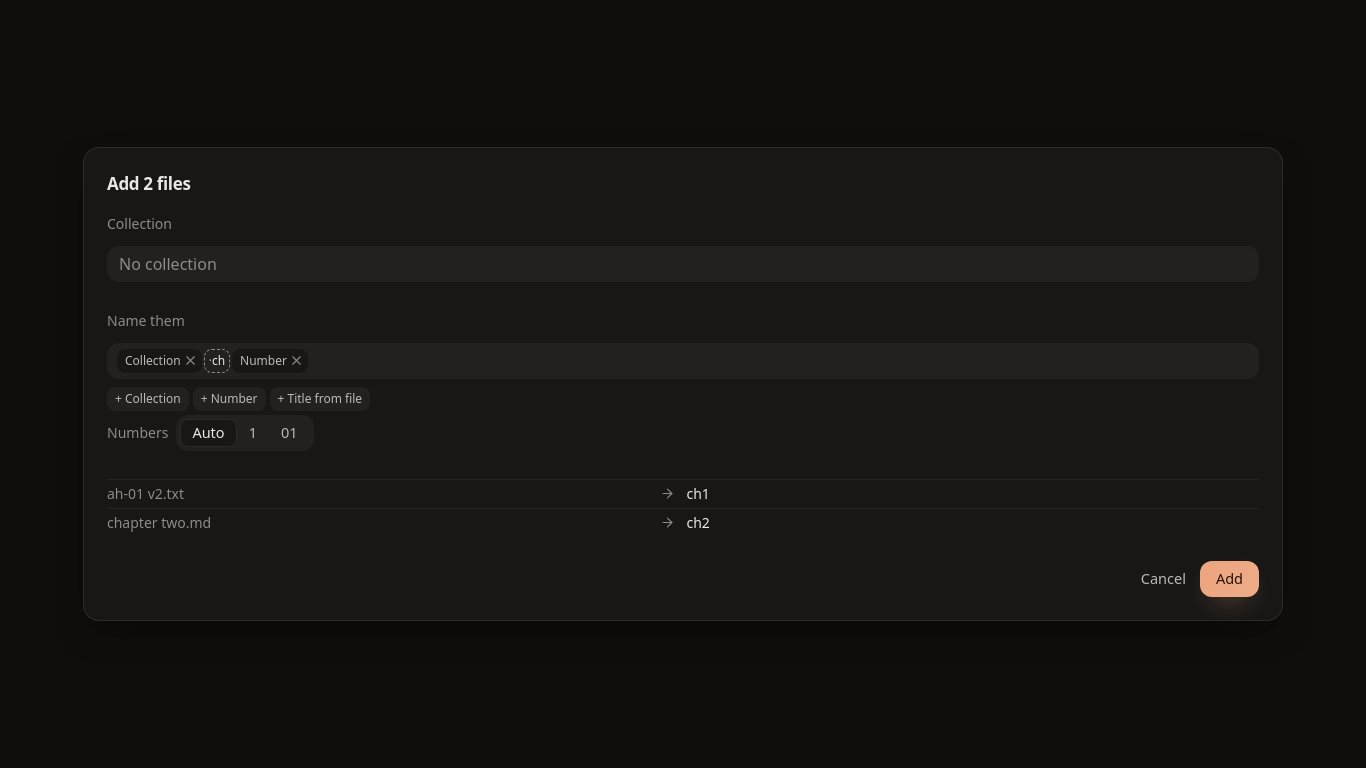
NamingModal › waits for the rule check before adding
The width and height of the screenshot is (1366, 768).
What coordinates should you click on to do the following:
click the button named "Remove Number"
I would click on:
 (296, 361)
Its box is [289,353,304,368].
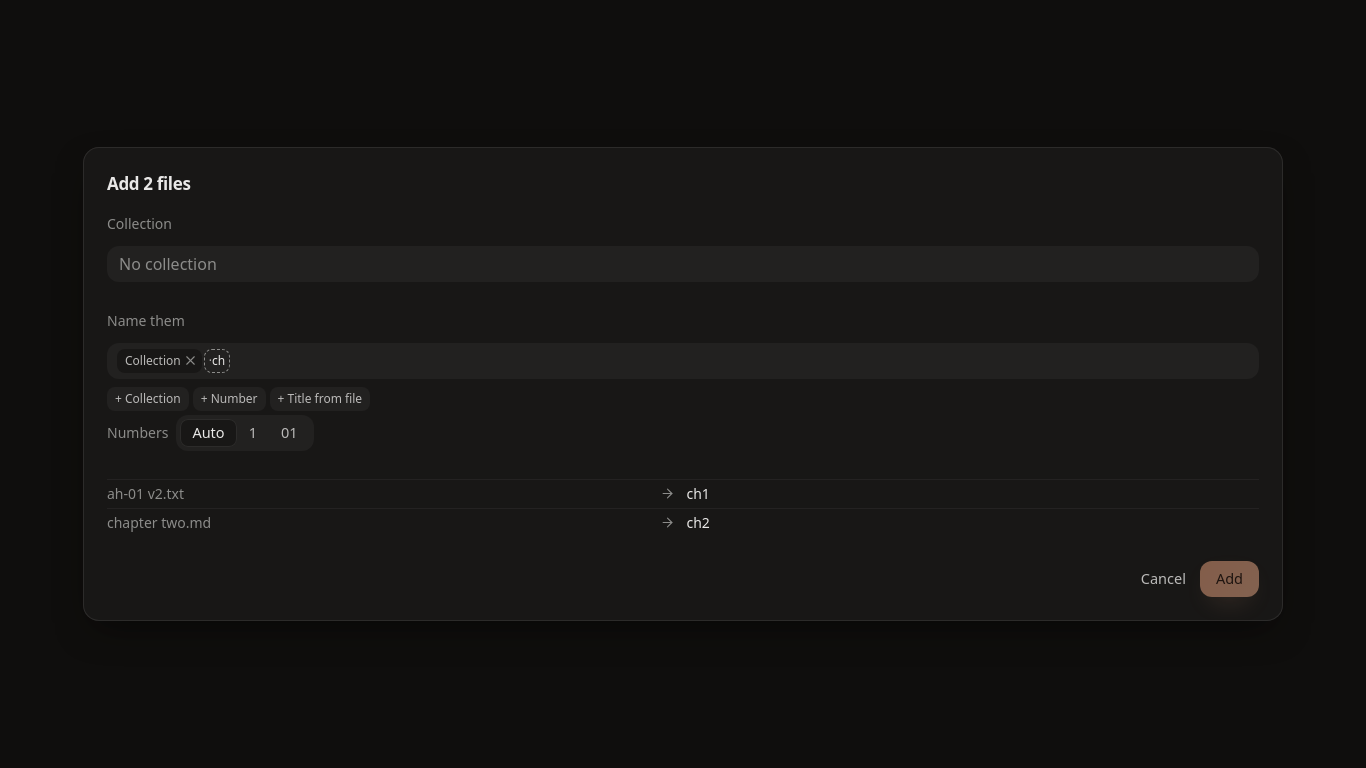
Check: the button "Add" is disabled, box [1200,561,1259,597]
